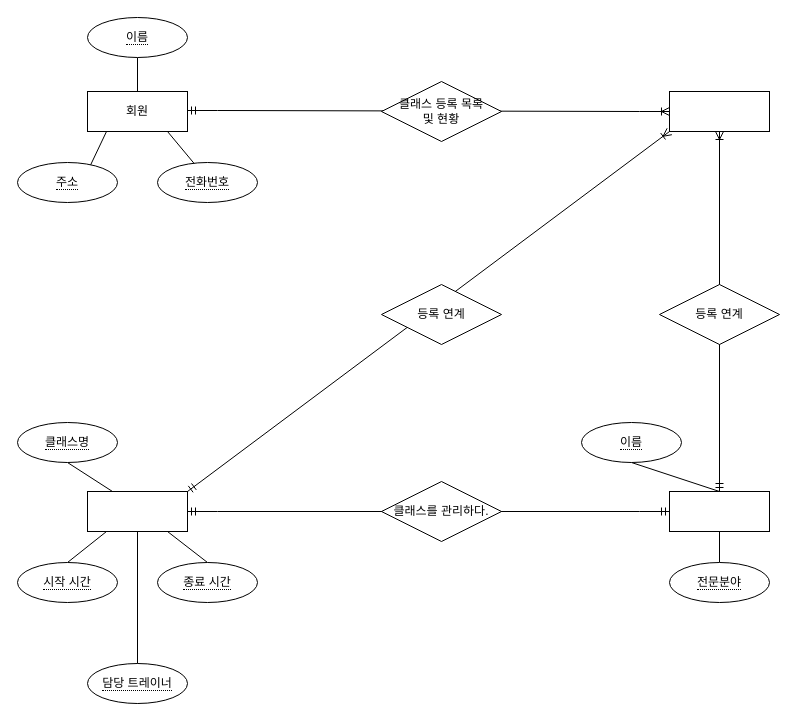
The diagram is 797 pixels wide and 722 high, and some of its shapes have lost their labels. The centre of each missing label's shape, as x and y in pixels:
강습 클래스: the point at 137,511
클래스 등록: the point at 719,111
트레이너: the point at 719,511
